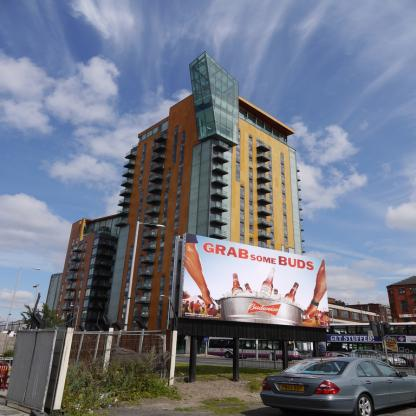Car: (261, 356, 416, 416)
